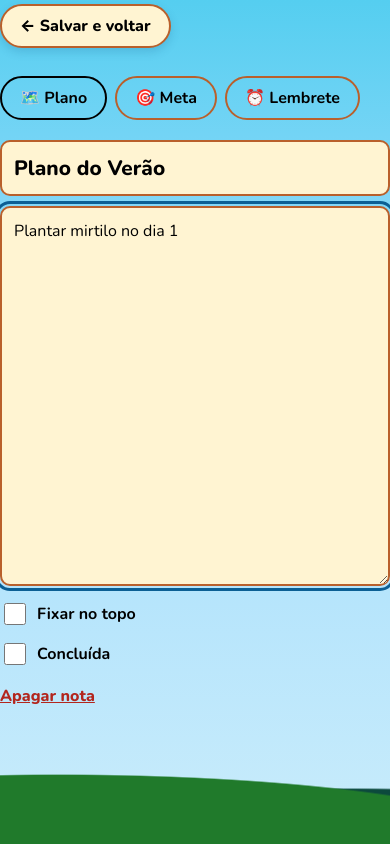
Scenario: Minhas notas (interface) › cria, encontra pela busca e apaga uma nota
The width and height of the screenshot is (390, 844).
Earlier steps of the test are not shown.
Click the button "← Salvar e voltar" at (85, 26), box [0,4,170,48]
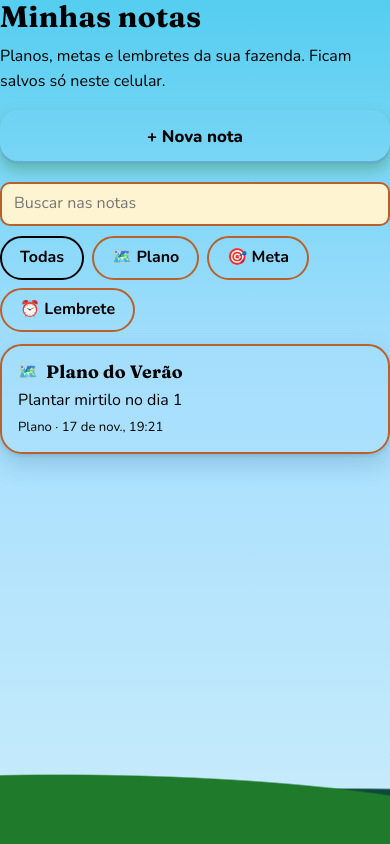
Result: the text "Plano do Verão" is shown at [46,360,183,383]
Type "inverno" into the search field labelled "Buscar nas notas" at (195, 204), box [0,182,389,226]
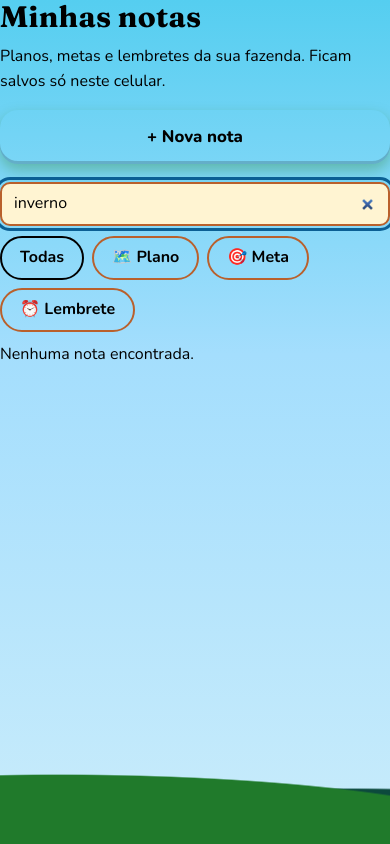
Result: the text "Nenhuma nota encontrada." is shown at [0,343,194,365]
Clear the search field named "Buscar nas notas" at (195, 204), box [0,182,389,226]
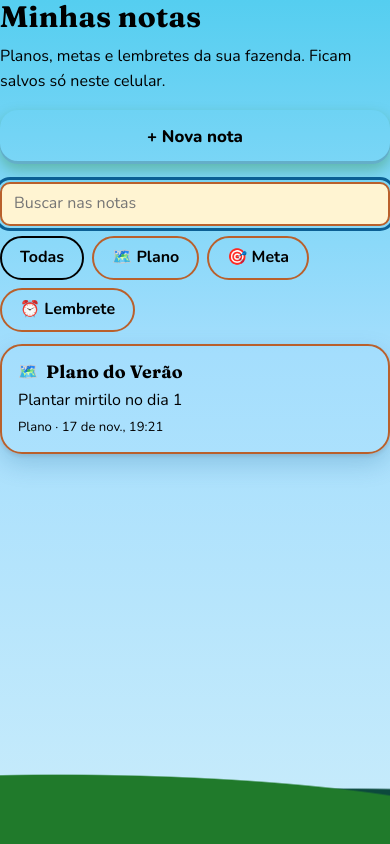
Click the text "Plano do Verão" at (114, 371), box [46,360,183,383]
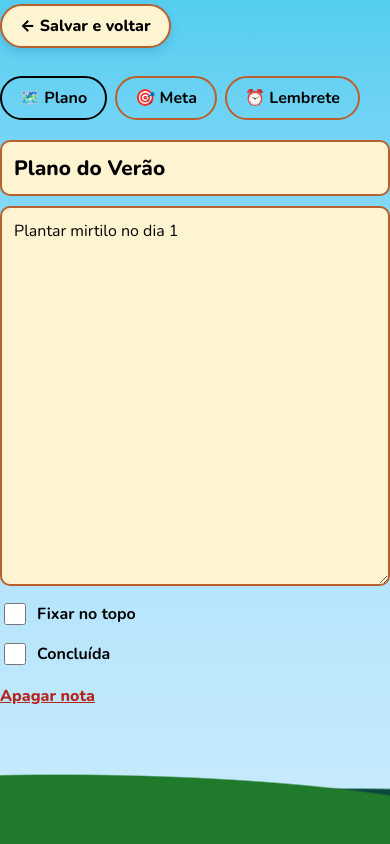
Click the button "Apagar nota" at (47, 696), box [0,676,95,717]
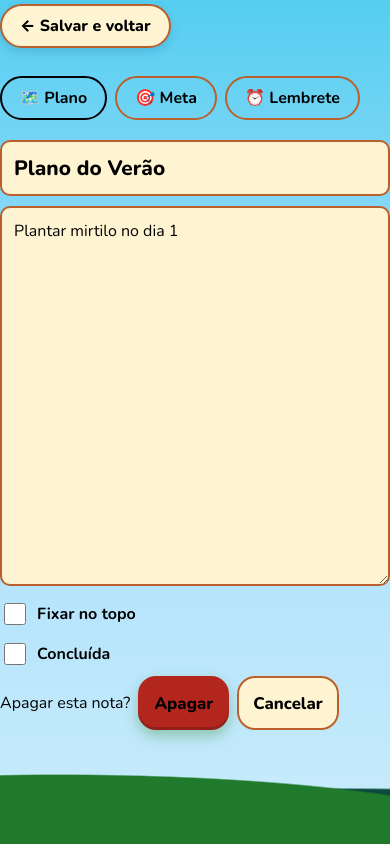
Click the button "Apagar" at (184, 703), box [138,676,229,730]
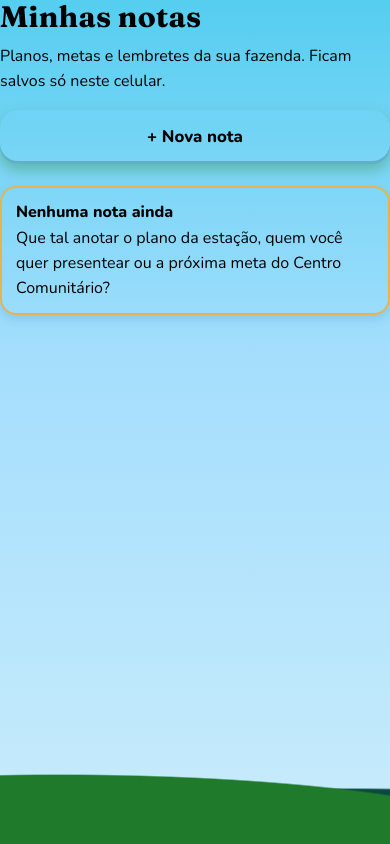
Result: the text "Nenhuma nota ainda" is shown at [16,201,173,223]
